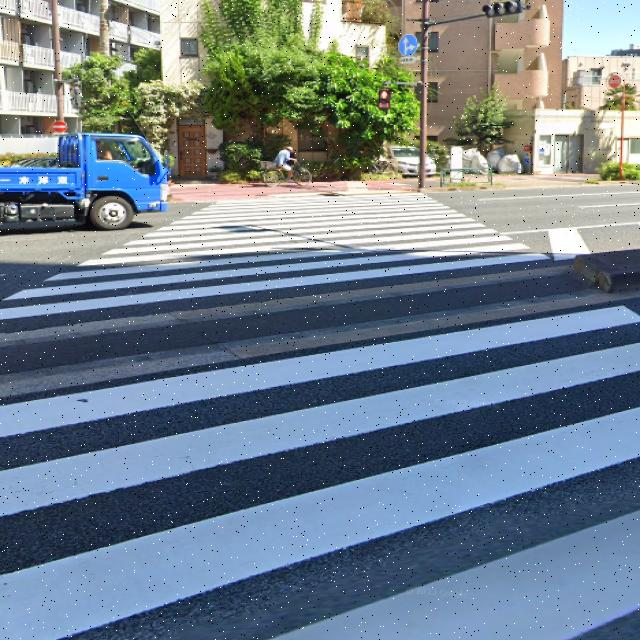traffic-light: (379, 89, 391, 108)
